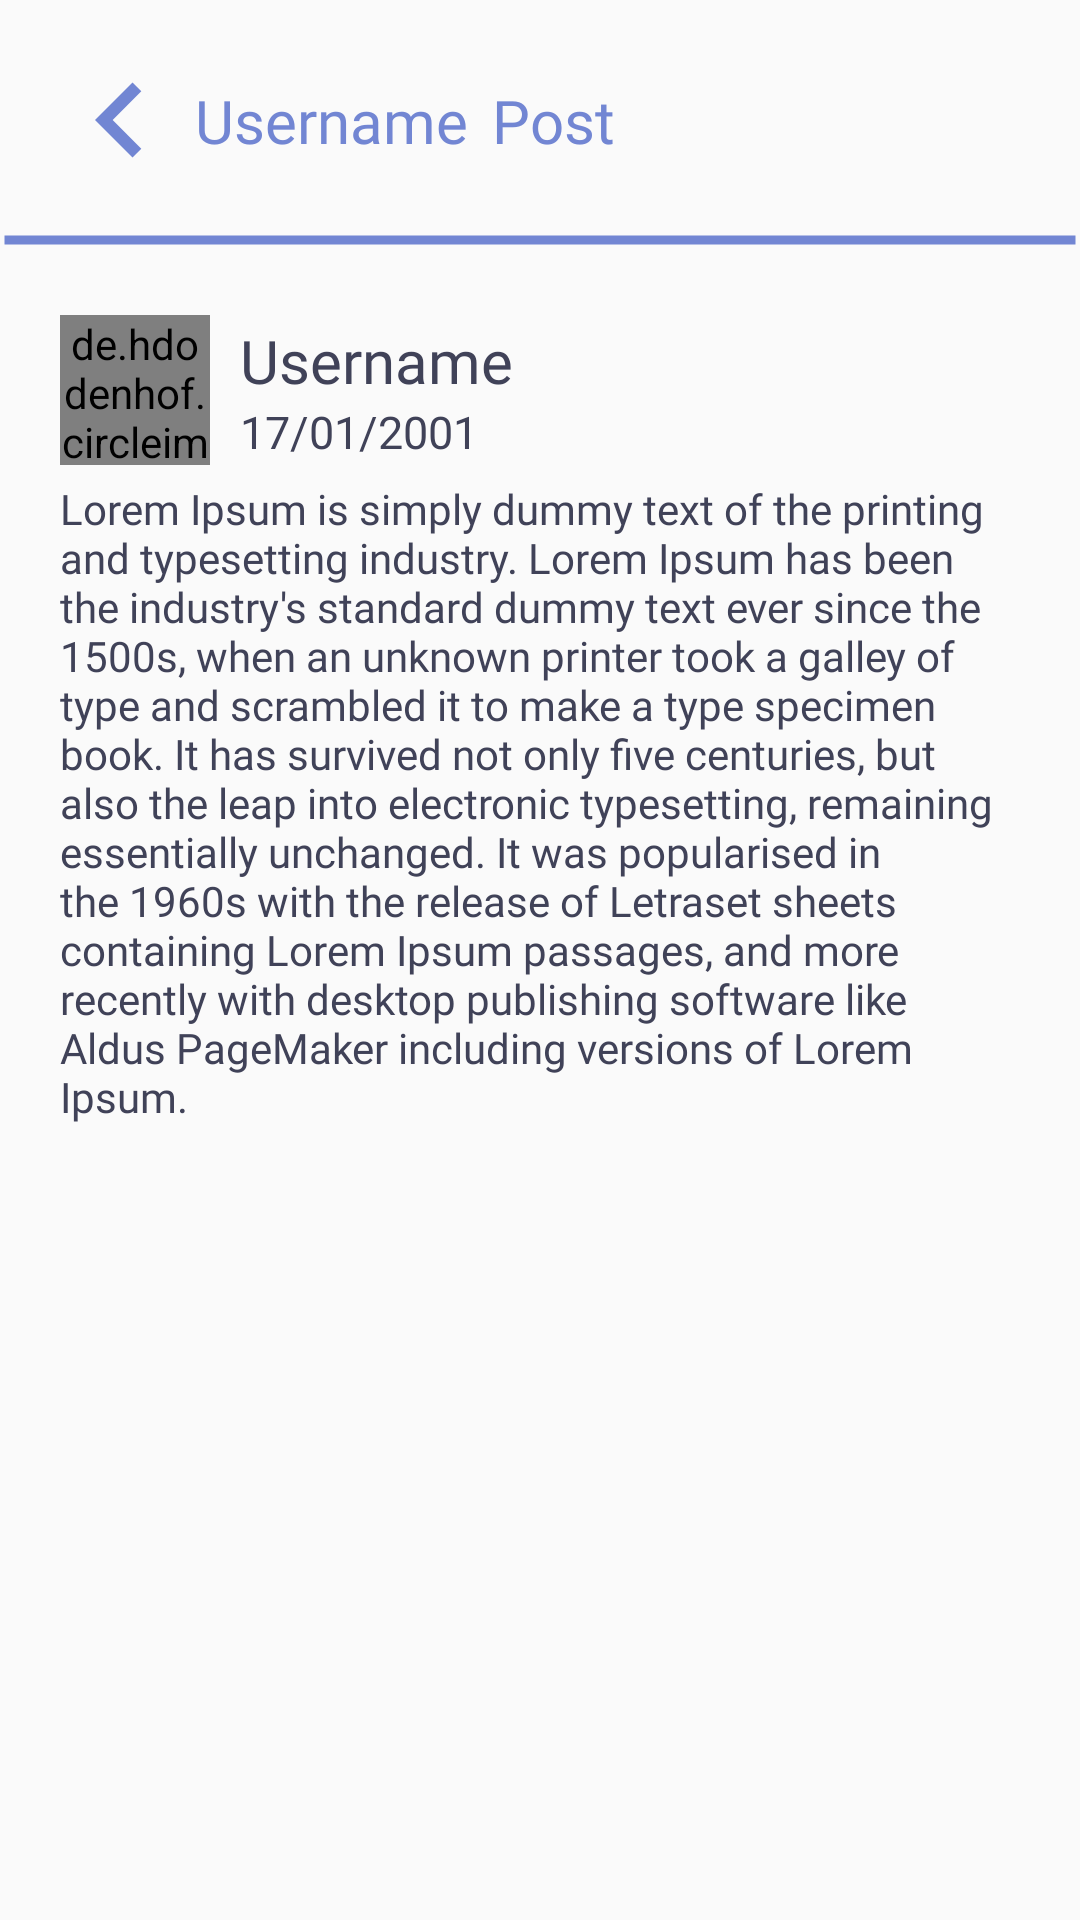

Named icons in this screenshot (1080px×1920px) and their centers, (x,y):
Icon Back Button: (118,120)
